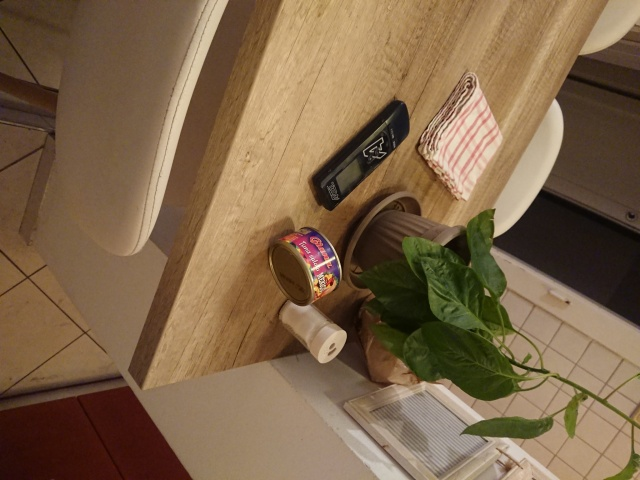Giana Tuna Salad Mexico 185g: (265, 224, 345, 309)
